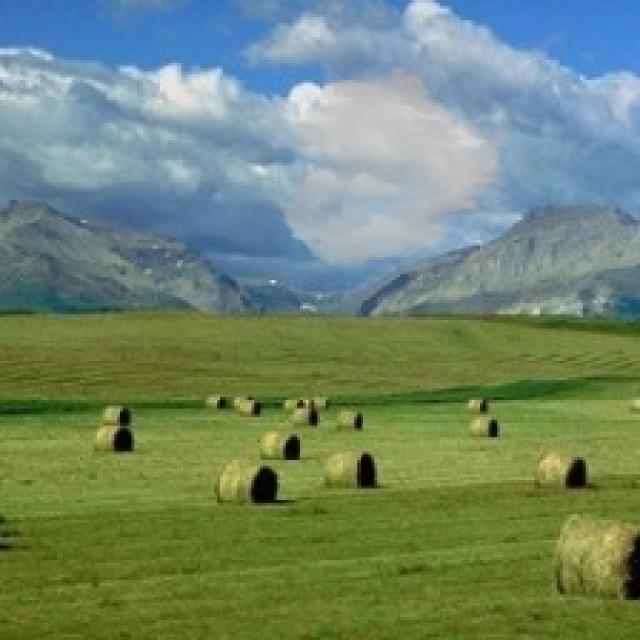Smoke: (277, 62, 517, 268)
